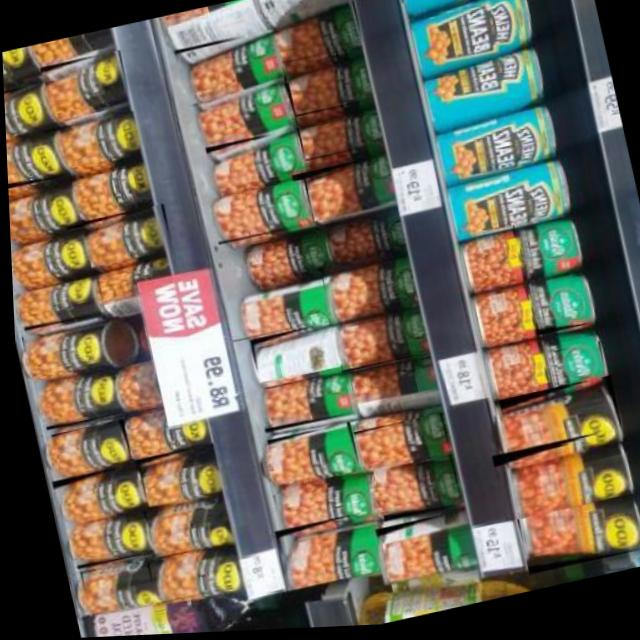Beans: (483, 432, 622, 527), (490, 379, 619, 469), (507, 494, 638, 580), (266, 512, 378, 594), (362, 510, 471, 590), (215, 270, 328, 345), (313, 252, 413, 331), (17, 49, 128, 120), (285, 156, 392, 228), (61, 203, 171, 272), (171, 30, 282, 97), (265, 475, 372, 544), (14, 314, 124, 381), (188, 85, 297, 152), (204, 180, 312, 247), (43, 461, 144, 531), (199, 126, 304, 191), (262, 1, 361, 67), (364, 455, 456, 525), (132, 491, 223, 561), (249, 373, 349, 436), (39, 110, 140, 172), (326, 313, 423, 377), (127, 442, 218, 508), (28, 361, 115, 430), (260, 424, 355, 487), (138, 544, 234, 606), (242, 324, 334, 386), (345, 416, 444, 472), (279, 60, 369, 121), (281, 111, 378, 167), (61, 511, 150, 570), (43, 418, 127, 479), (11, 275, 102, 331), (8, 226, 89, 287), (70, 557, 147, 620), (506, 218, 576, 287), (519, 275, 592, 341), (6, 182, 77, 241), (5, 127, 68, 191), (3, 79, 53, 143), (547, 343, 602, 388), (2, 45, 41, 91)
